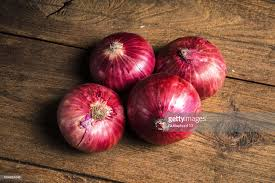onion: (127, 72, 201, 147), (55, 83, 125, 155), (88, 32, 155, 88)
